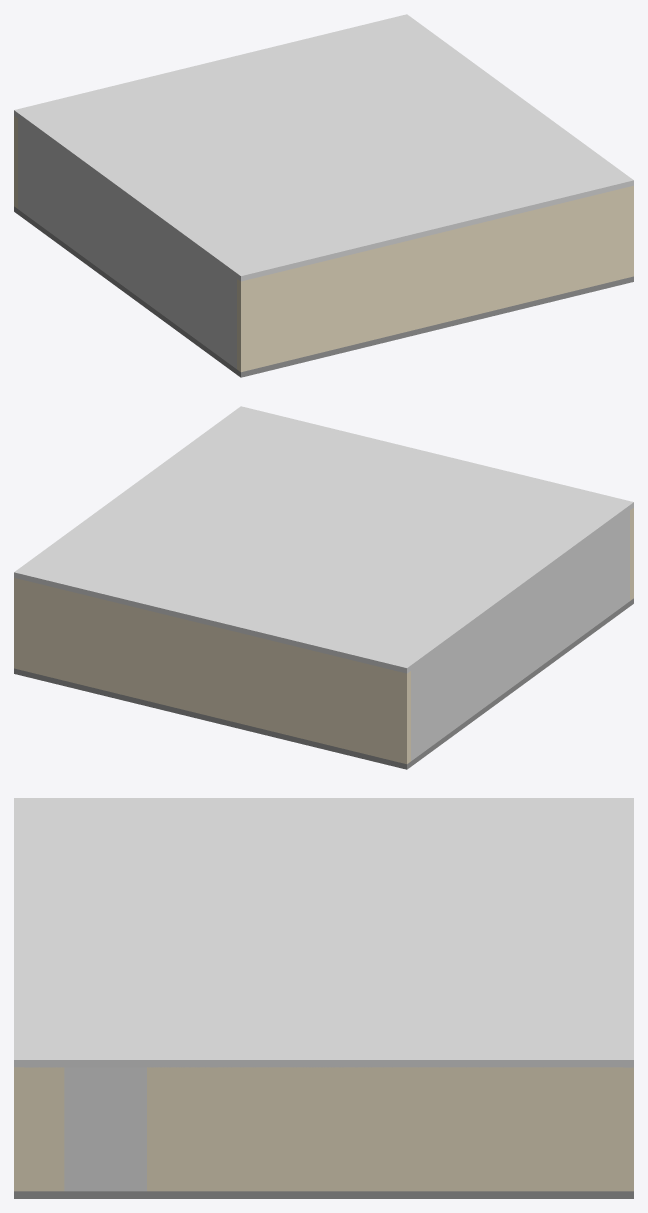
The model's file is house_layout.fbx.
The picture shows the model from 3 angles, top to bottom: view 1: azimuth 30°, elevation 25°; view 2: azimuth 150°, elevation 25°; view 3: azimuth 270°, elevation 25°; orthographic projection. The views are drawn at different scales.
Parts seen in each view (by area): view 1: Cube.027, Cube.002, Cube.007, Cube.028; view 2: Cube.027, Cube.001, Cube.007, Cube.028; view 3: Cube.027, Cube.003, Cube.028, Cube.005, Cube.001, Cube.002.
Boxes of the visible parts, x1,y1,x2,y2 form: Cube.027: (14,14,633,281); Cube.002: (237,185,633,372); Cube.007: (18,119,236,368); Cube.028: (14,206,633,377); Cube.027: (14,406,633,673); Cube.001: (14,578,410,764); Cube.007: (411,511,629,760); Cube.028: (14,598,633,769); Cube.027: (14,798,633,1067); Cube.003: (147,1067,623,1191); Cube.028: (14,1067,633,1198); Cube.005: (24,1067,64,1191); Cube.001: (623,1067,633,1191); Cube.002: (14,1067,24,1191).
Size of the model in its own units: 13.21 by 3.26 by 13.21.
